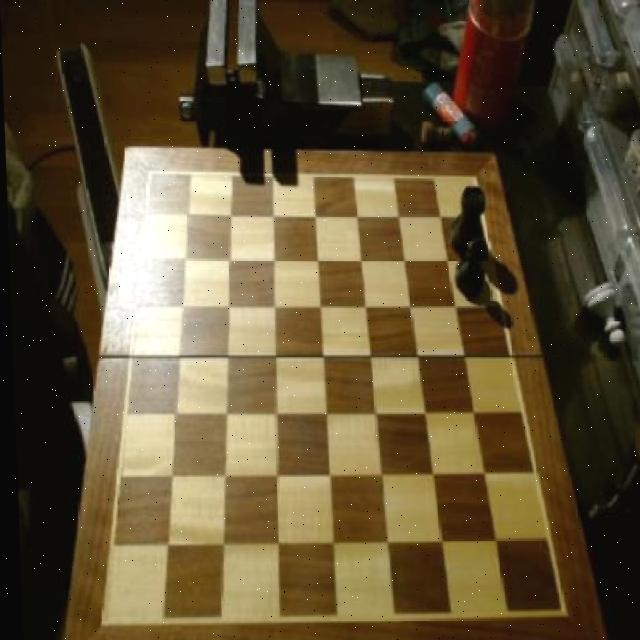black-knight: (451, 238, 484, 296)
black-queen: (446, 184, 486, 262)
